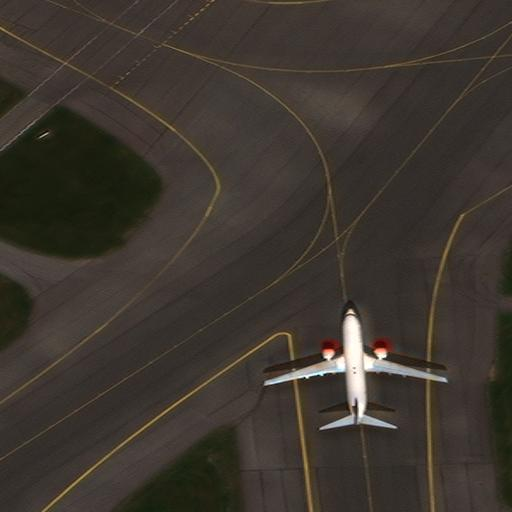Medium Civil Transport: (261, 304, 446, 429)
